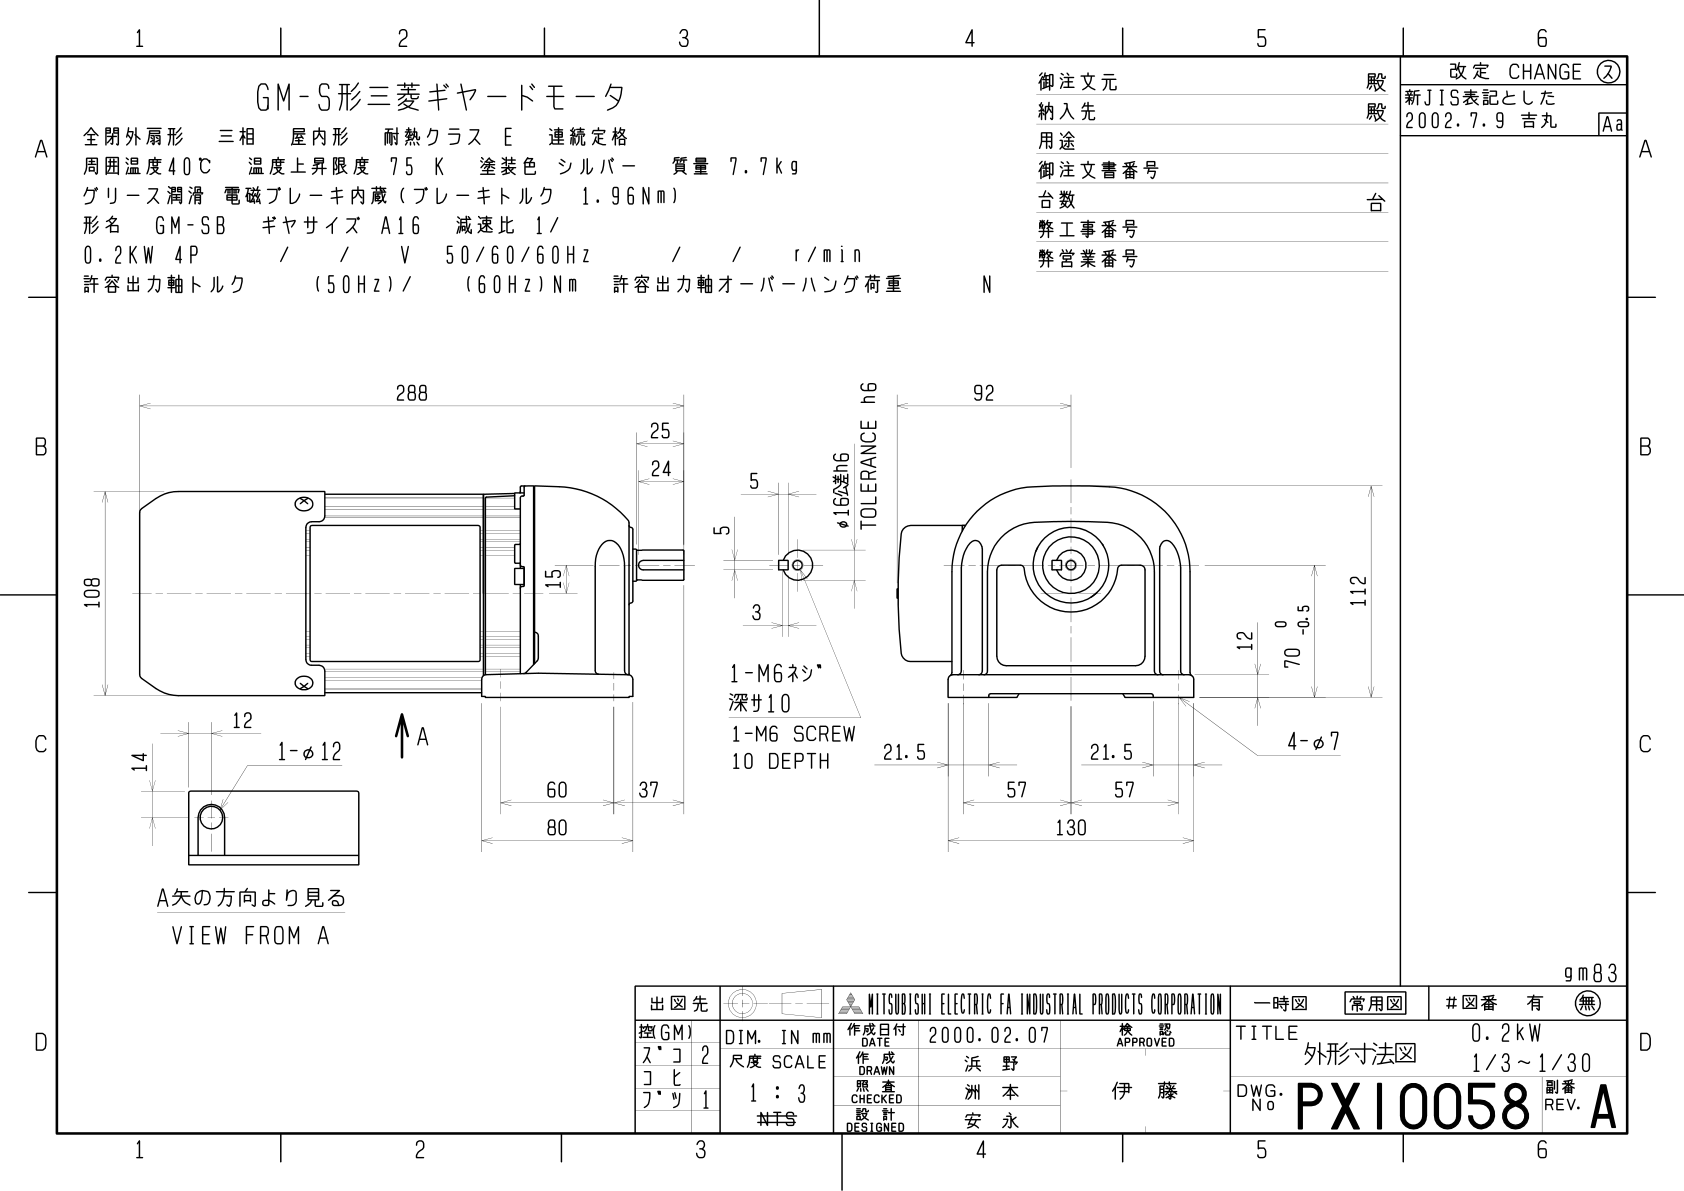GM_S_屋内＿三相_脚: (73, 365, 1386, 953)
